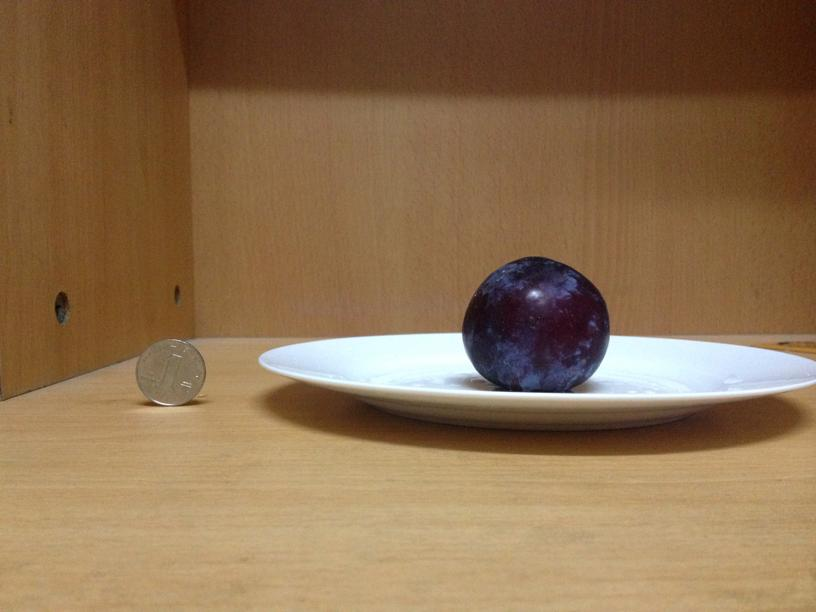coin: (134, 337, 207, 407)
plum: (457, 256, 612, 389)
